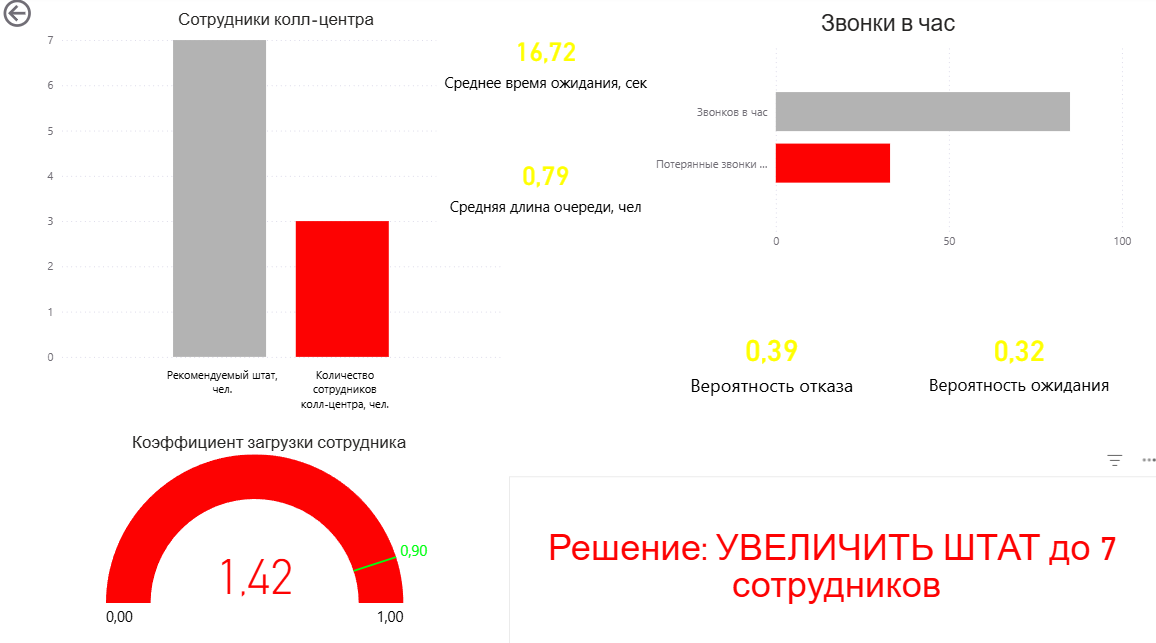

What the dashboard file says about the page in this screenshot:
{"tool":"powerbi","page":{"name":"ЦД3","canvas":[1280,720],"ordinal":2},"visuals":[{"type":"actionButton","box":[0,0,100,40],"z":0},{"type":"clusteredColumnChart","title":"Сотрудники колл-центра","fields":{"Y":["Sum(ЦД3.Значение)"],"Category":["ЦД3.Метрика"]},"box":[48,16,512,448],"z":1000},{"type":"barChart","title":"Звонки в час","fields":{"Y":["Sum(ЦД3.Значение)"],"Category":["ЦД3.Метрика"]},"box":[704,16,544,272],"z":2000},{"type":"card","fields":{"Values":["Sum(ЦД3.Значение)"]},"box":[720,352,256,96],"z":3000},{"type":"card","fields":{"Values":["Sum(ЦД3.Значение)"]},"box":[992,352,256,96],"z":4000},{"type":"card","fields":{"Values":["Min(ЦД3.Метрика)"]},"box":[560,528,720,192],"z":5000},{"type":"gauge","fields":{"Y":["Sum(ЦД3.Значение)"]},"box":[112,480,368,224],"z":6000},{"type":"card","fields":{"Values":["Sum(ЦД3.Значение)"]},"box":[480,0,240,144],"z":7000},{"type":"card","fields":{"Values":["Sum(ЦД3.Значение)"]},"box":[480,144,240,128],"z":8000}]}

Visuals, with their boxes in screenshot pixels (x1, y1, x2, y2), scaled from the page's 1280x720 canvas onto the 1156x643 screenshot:
actionButton: BBox(0, 0, 90, 36)
"Сотрудники колл-центра" clusteredColumnChart: BBox(43, 14, 506, 414)
"Звонки в час" barChart: BBox(636, 14, 1127, 257)
card - Sum(ЦД3.Значение): BBox(650, 314, 881, 400)
card - Sum(ЦД3.Значение): BBox(896, 314, 1127, 400)
card - Min(ЦД3.Метрика): BBox(506, 472, 1155, 642)
gauge - Sum(ЦД3.Значение): BBox(101, 429, 434, 629)
card - Sum(ЦД3.Значение): BBox(434, 0, 650, 129)
card - Sum(ЦД3.Значение): BBox(434, 129, 650, 243)
